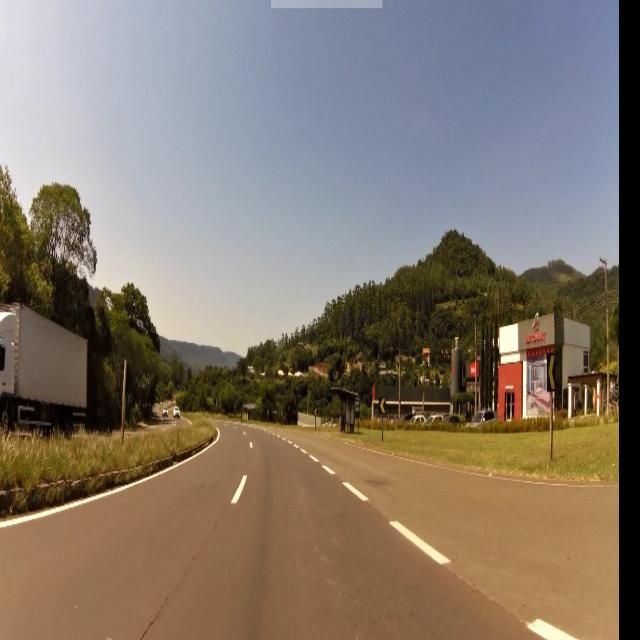Del: (548, 349, 558, 395), (381, 397, 386, 414)
